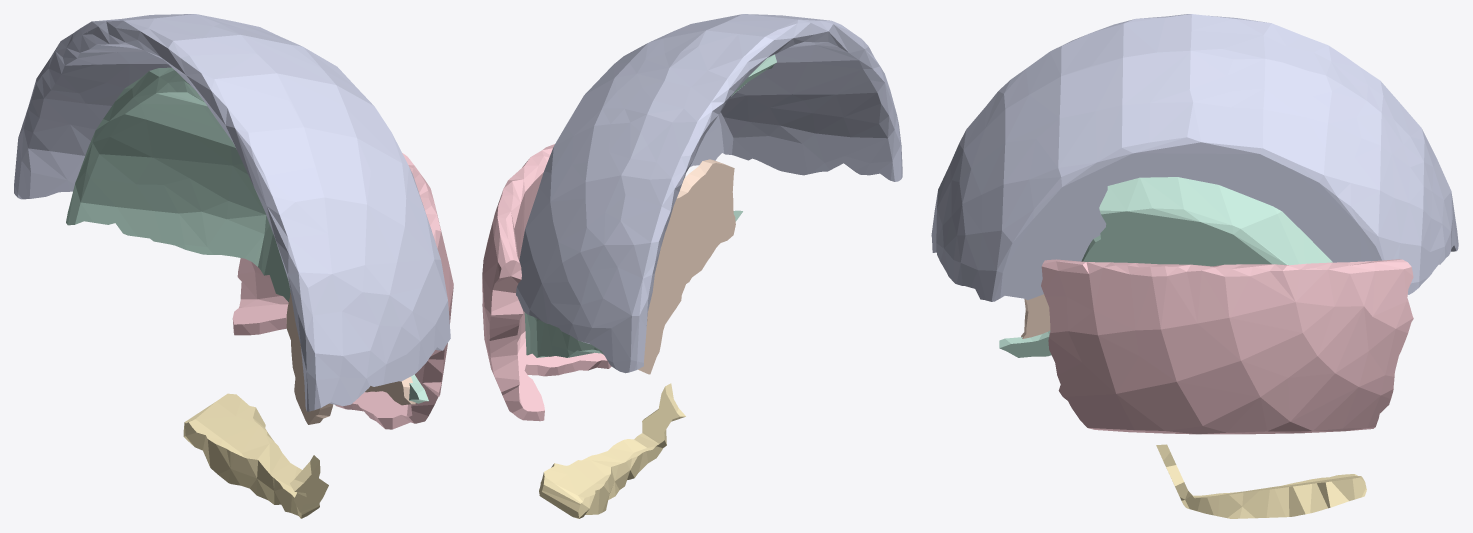
File: view_input_colored.glb
The picture shows the model from 3 angles, left to right: view 1: azimuth 30°, elevation 25°; view 2: azimuth 150°, elevation 25°; view 3: azimuth 270°, elevation 25°; orthographic projection. The views are drawn at different scales.
Visible parts, largest first — view 1: world; view 2: world; view 3: world.
Part boxes in pixels (left/top/right/bottom): world: left=14, top=14, right=453, bottom=518; world: left=482, top=14, right=902, bottom=518; world: left=931, top=14, right=1458, bottom=518.
Size of the model in its own units: 0.4973 by 0.911 by 0.9708.
